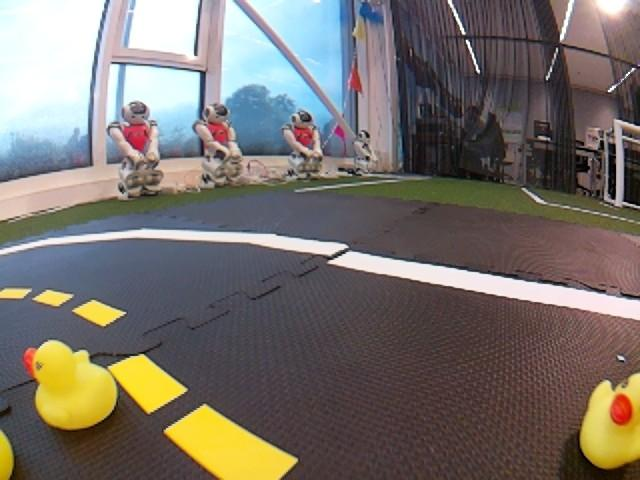Duckies: (25, 341, 118, 433), (580, 373, 640, 471), (0, 429, 18, 480)
